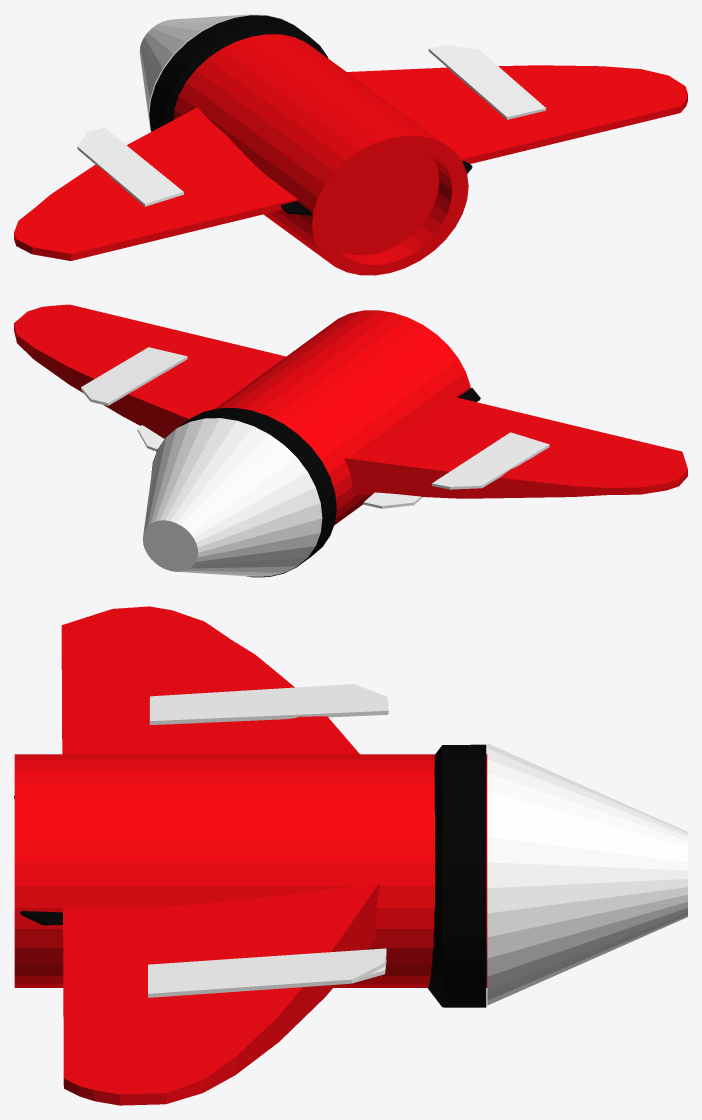
Rendered from Spaceship.fbx.
3 renders of one model, top to bottom at view 1: azimuth 30°, elevation 25°; view 2: azimuth 150°, elevation 25°; view 3: azimuth 270°, elevation 25°, orthographic. The views are drawn at different scales.
Parts seen in each view (by area): view 1: Plane, Plane.001, Cylinder.001, Cylinder; view 2: Plane, Cylinder, Plane.001, Cylinder.001; view 3: Plane, Cylinder, Plane.001, Cylinder.001.
Part boxes in pixels (x1=…): Plane: x1=14, y1=34, x2=687, y2=275; Plane.001: x1=77, y1=45, x2=546, y2=206; Cylinder.001: x1=149, y1=15, x2=327, y2=131; Cylinder: x1=139, y1=14, x2=293, y2=131; Plane: x1=14, y1=304, x2=687, y2=525; Cylinder: x1=142, y1=418, x2=322, y2=576; Plane.001: x1=81, y1=347, x2=549, y2=508; Cylinder.001: x1=151, y1=408, x2=336, y2=577; Plane: x1=14, y1=606, x2=487, y2=1105; Cylinder: x1=487, y1=743, x2=687, y2=1005; Plane.001: x1=148, y1=684, x2=388, y2=997; Cylinder.001: x1=428, y1=744, x2=486, y2=1007.
Bounding box in the file's own units: 423 × 94.56 × 248.
